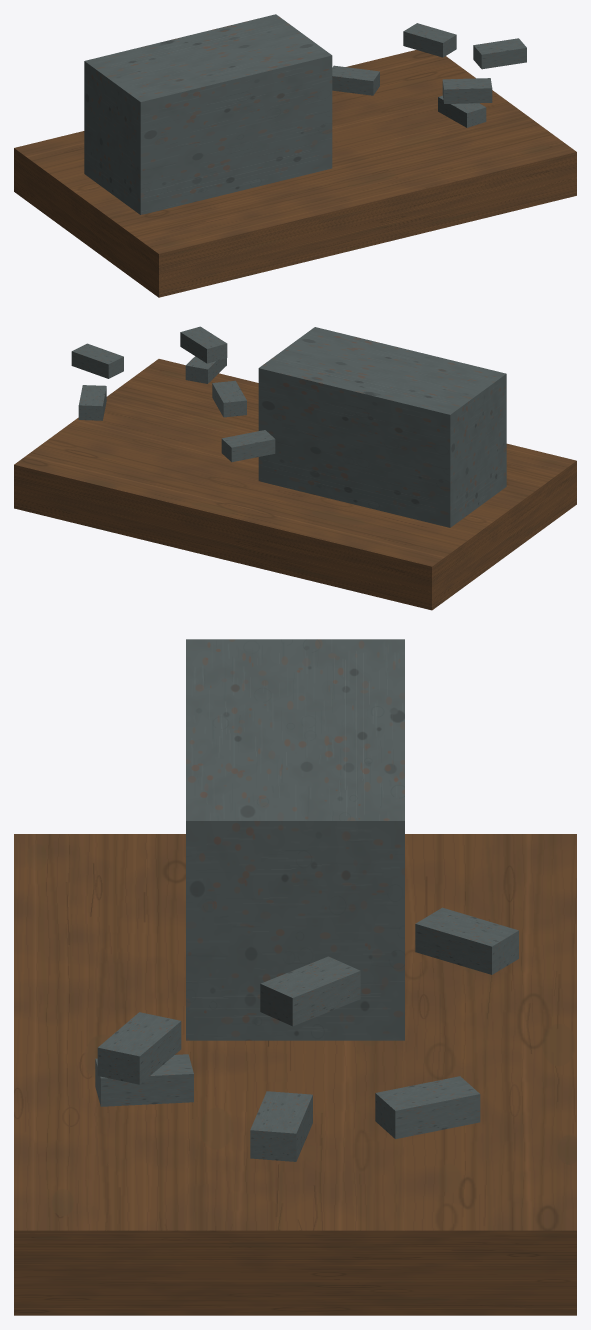
Rendered from cs-016_radio_repair_station__repaired.obj.
3 views of the same model, one above another, from view 1: azimuth 30°, elevation 25°; view 2: azimuth 150°, elevation 25°; view 3: azimuth 270°, elevation 25° (orthographic). The views are drawn at different scales.
Parts seen in each view (by area): view 1: cs-016_radio_repair_station__repaired; view 2: cs-016_radio_repair_station__repaired; view 3: cs-016_radio_repair_station__repaired.
Part boxes in pixels (x1=…): cs-016_radio_repair_station__repaired: x1=14, y1=14, x2=576, y2=297; cs-016_radio_repair_station__repaired: x1=14, y1=326, x2=576, y2=610; cs-016_radio_repair_station__repaired: x1=14, y1=639, x2=576, y2=1315.
Size of the model in its own units: 1.24 by 0.43 by 0.72.
2 materials, 2 textured.
